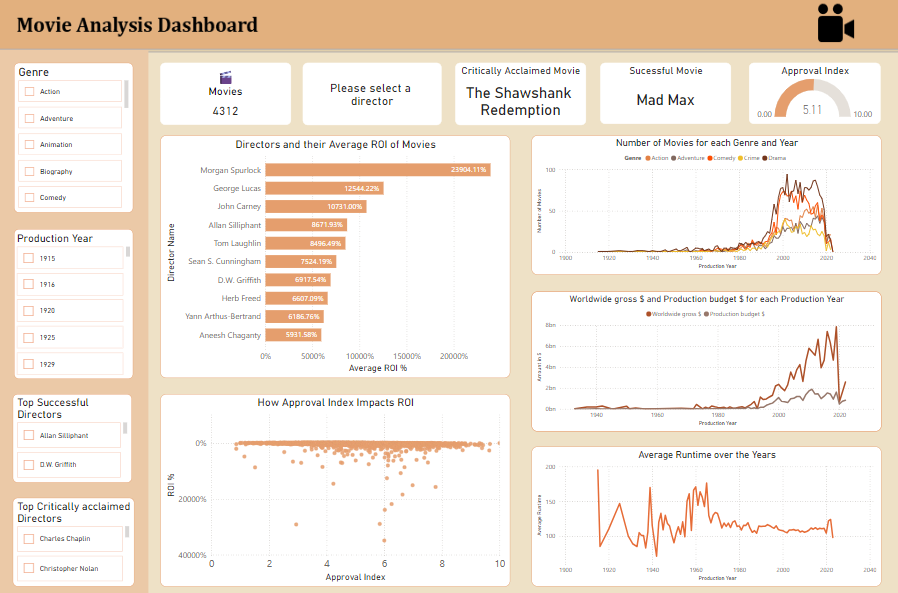

What the dashboard file says about the page in this screenshot:
{"tool":"powerbi","page":{"name":"Page 4","canvas":[1800,1200],"ordinal":3},"visuals":[{"type":"clusteredBarChart","title":"Directors and their Average ROI of Movies","fields":{"Category":["genre.director_name"],"Y":["genre.average profit_g"]},"box":[322.4,273.5,700,485.7],"z":0},{"type":"listSlicer","title":"Production Year","fields":{"Values":["genre.production year"]},"box":[29.7,459.2,238.8,300],"z":1000},{"type":"actionButton","box":[0,0,100,40],"z":2000},{"type":"listSlicer","title":"Genre","fields":{"Values":["genre.Genre"]},"box":[29.7,128.6,238.8,300],"z":3000},{"type":"card","title":"Sucessful Movie","fields":{"Values":["genre.movie title with highest roi"]},"box":[1202,128.6,261.2,122.4],"z":4000},{"type":"card","title":"Critically Acclaimed Movie","fields":{"Values":["genre.movie title with highest approval index"]},"box":[912.2,128.6,261.2,124.5],"z":5000},{"type":"scatterChart","title":"How Approval Index Impacts ROI","fields":{"X":["genre.approval_Index"],"Y":["genre.roi"]},"box":[322.4,789.8,700,385.7],"z":6000},{"type":"listSlicer","title":"Top Critically acclaimed Directors","fields":{"Values":["top directors.director_name"]},"box":[26.5,998,242.9,177.6],"z":7000},{"type":"card","fields":{"Values":["genre.genre_c"]},"box":[608.2,128.6,277.6,124.5],"z":8000},{"type":"gauge","title":"Approval Index","fields":{"Y":["genre.avg ai"]},"box":[1500,128.6,263.3,122.4],"z":9000},{"type":"lineChart","title":"Number of Movies for each Genre and Year","fields":{"Category":["genre.production year"],"Y":["genre.each year num of movies per genre"],"Series":["genre.Genre"]},"box":[1065.5,273.6,700,279.3],"z":10000},{"type":"listSlicer","title":"Top Successful Directors","fields":{"Values":["hit directors.director_name"]},"box":[26.5,789.8,238.8,177.6],"z":11000},{"type":"lineChart","title":"Worldwide gross $ and Production budget $ for each Production Year","fields":{"Category":["genre.production year"],"Y":["genre.Worldwide gross $","genre.Production budget $"]},"box":[1065.3,585.7,700,280],"z":12000},{"type":"lineChart","title":"Average Runtime over the Years ","fields":{"Category":["genre.production year"],"Y":["genre.average run time over the years"]},"box":[1065.3,895.9,700,280],"z":13000},{"type":"card","title":"🎬 Movies","fields":{"Values":["genre.Movies"]},"box":[322.4,191.8,261.2,59.2],"z":14000},{"type":"textbox","box":[322.4,128.6,261.2,79.6],"z":15000}]}

Visuals, with their boxes in screenshot pixels (x1, y1, x2, y2), scaled from the page's 1800x1200 canvas onto the 898x593 screenshot:
"Directors and their Average ROI of Movies" clusteredBarChart: BBox(161, 135, 510, 375)
"Production Year" listSlicer: BBox(15, 227, 134, 375)
actionButton: BBox(0, 0, 50, 20)
"Genre" listSlicer: BBox(15, 64, 134, 212)
"Sucessful Movie" card: BBox(600, 64, 730, 124)
"Critically Acclaimed Movie" card: BBox(455, 64, 585, 125)
"How Approval Index Impacts ROI" scatterChart: BBox(161, 390, 510, 581)
"Top Critically acclaimed Directors" listSlicer: BBox(13, 493, 134, 581)
card - genre.genre_c: BBox(303, 64, 442, 125)
"Approval Index" gauge: BBox(748, 64, 880, 124)
"Number of Movies for each Genre and Year" lineChart: BBox(532, 135, 881, 273)
"Top Successful Directors" listSlicer: BBox(13, 390, 132, 478)
"Worldwide gross $ and Production budget $ for each Production Year" lineChart: BBox(531, 289, 881, 428)
"Average Runtime over the Years " lineChart: BBox(531, 443, 881, 581)
"🎬 Movies" card: BBox(161, 95, 291, 124)
textbox: BBox(161, 64, 291, 103)
